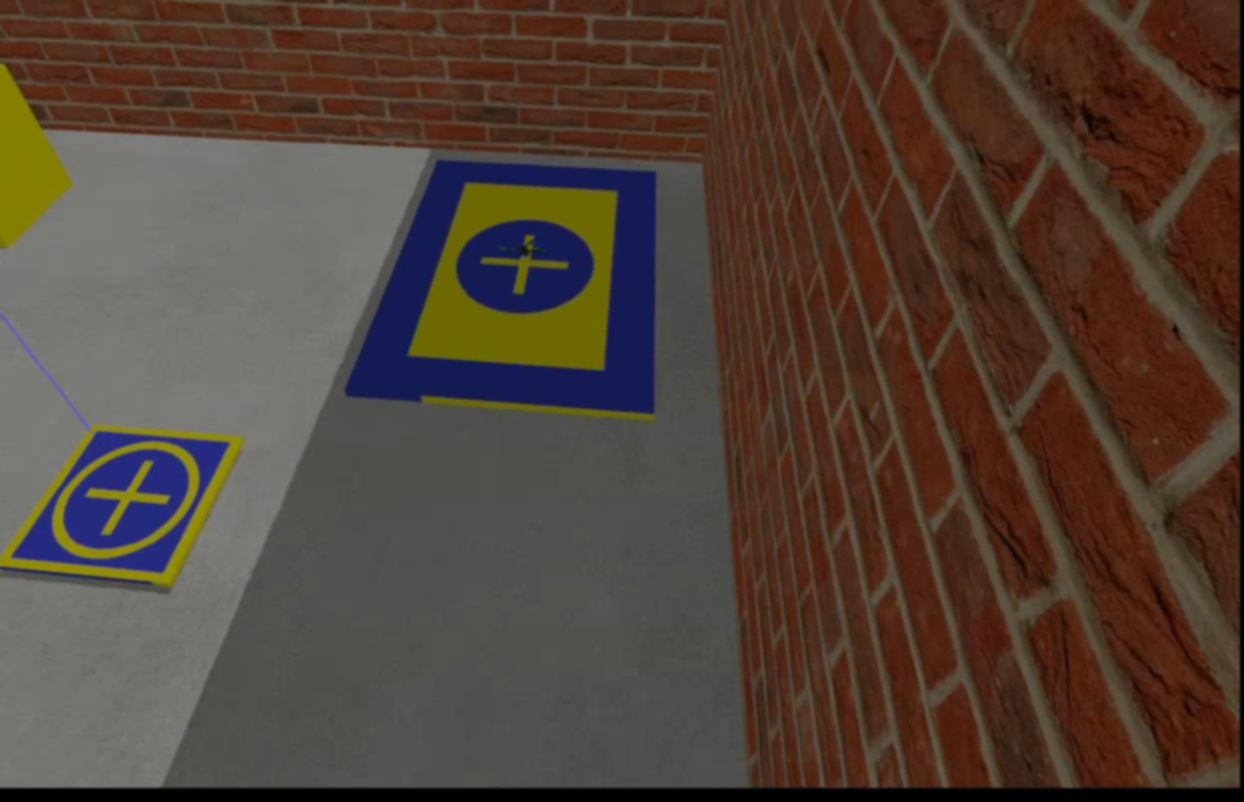large_base: (339, 156, 665, 427)
small_base: (0, 432, 250, 594)
